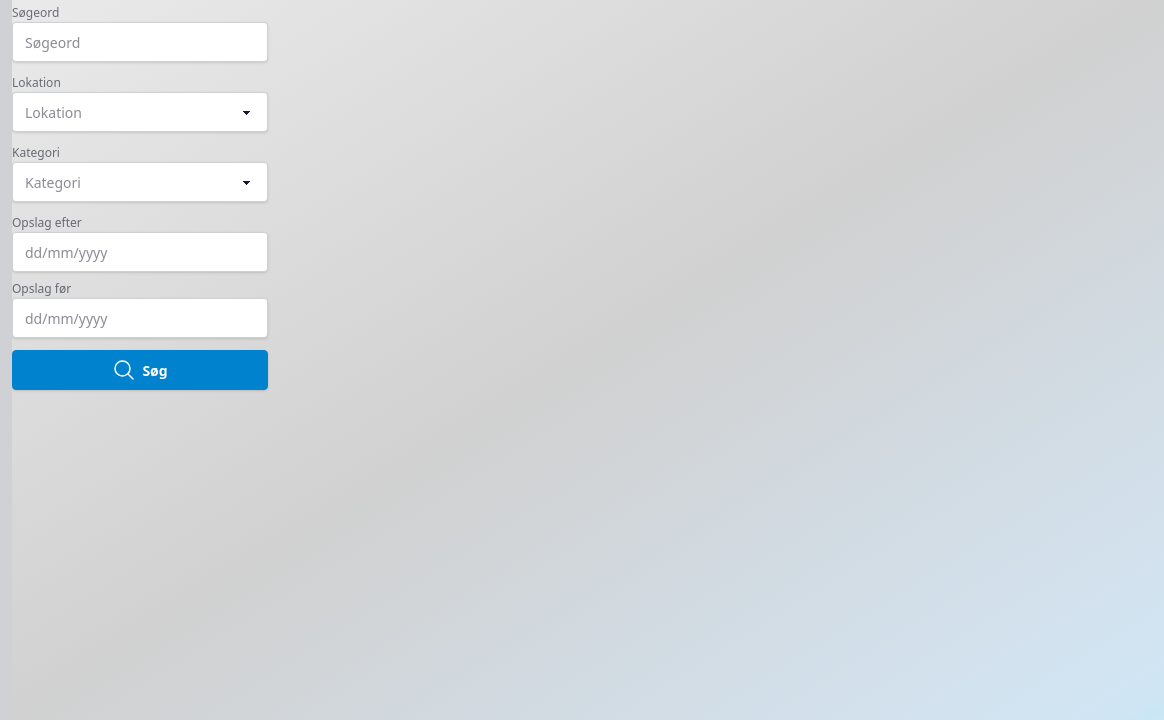
Test: SearchForm suggestions › filters cities and supports keyboard selection
The width and height of the screenshot is (1164, 720).
Step 1. Type "Aa" into the field with placeholder "Lokation" → (140, 112), box [12,92,268,132]
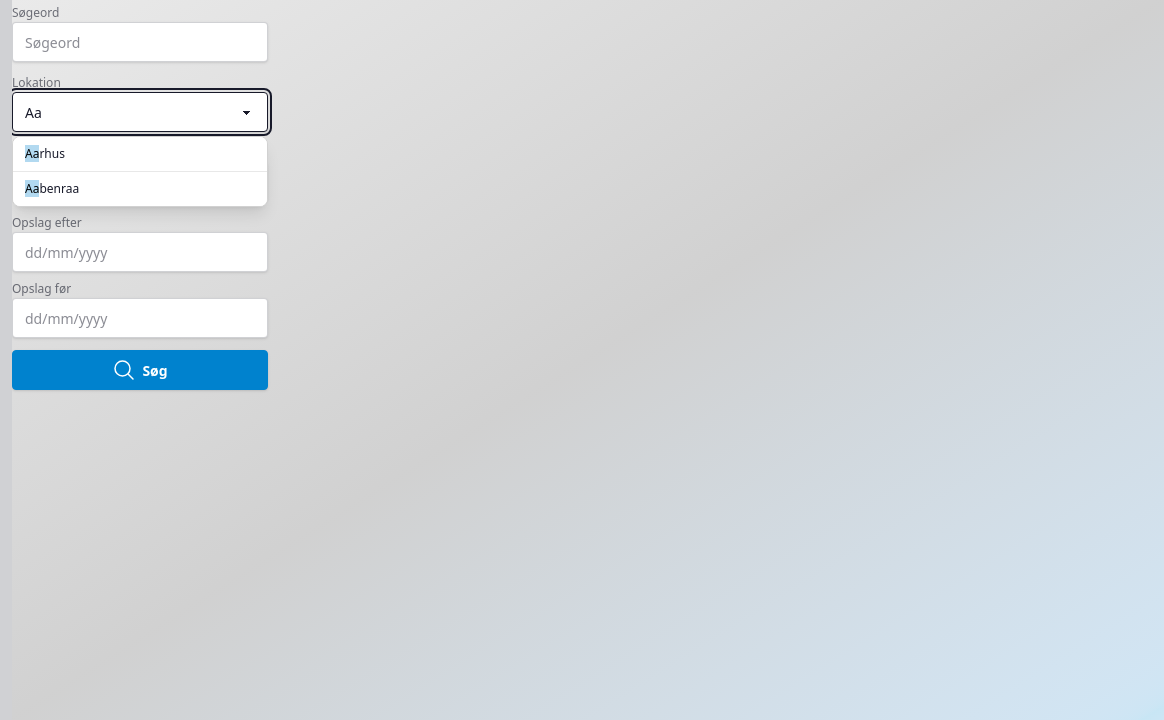
Expected: the button with aria-label "Vælg Aarhus" is shown, [13,137,267,171]
Step 2. Press Arrowdown Enter
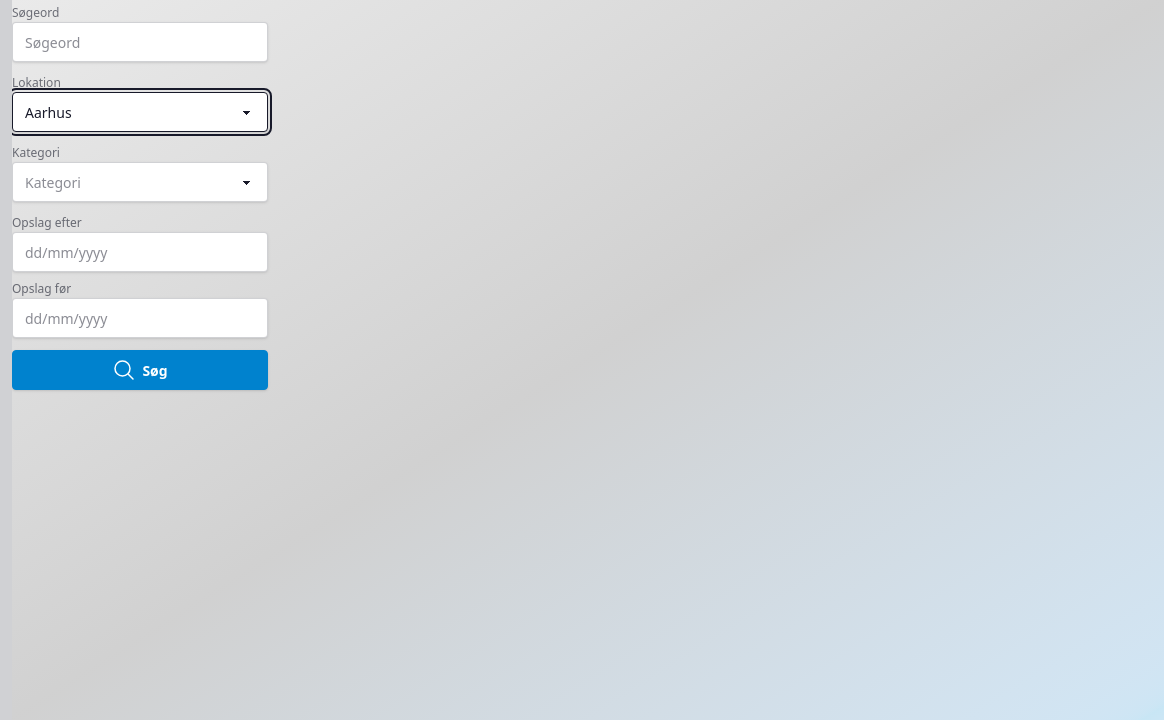
Expected: the field with placeholder "Lokation" holds "Aarhus", [12,92,268,132]
